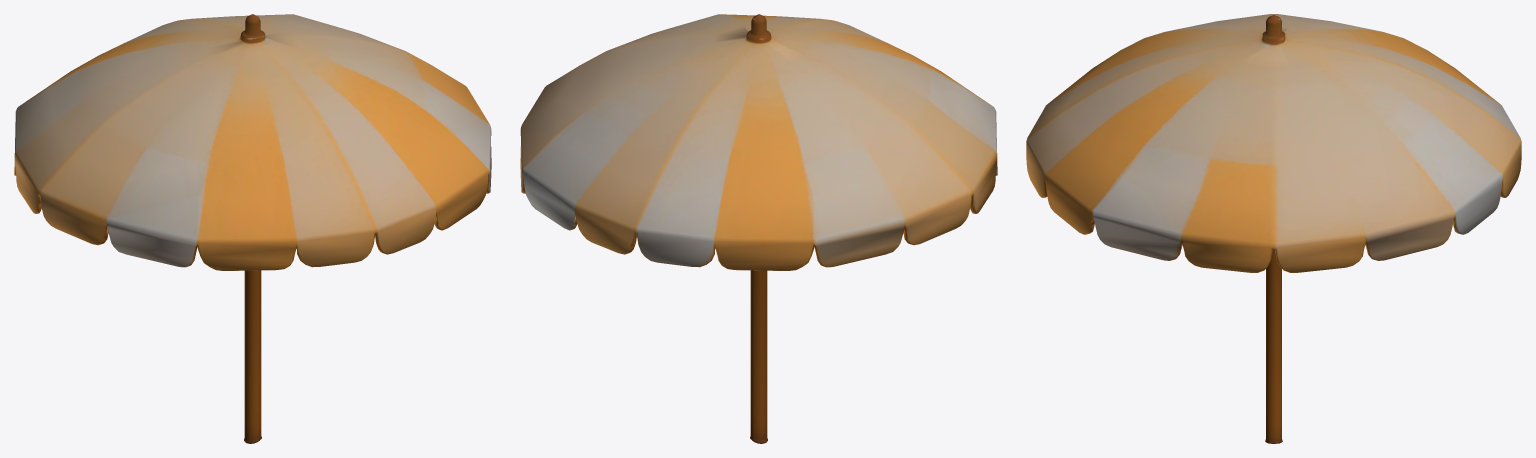
File: a_beach_umbrella_e6d4f903_v1.glb
3 views of the same model, side by side, from view 1: azimuth 30°, elevation 25°; view 2: azimuth 150°, elevation 25°; view 3: azimuth 270°, elevation 25° (orthographic).
Visible parts, largest first — view 1: material; view 2: material; view 3: material.
Boxes of the visible parts, x1,y1,x2,y2 form: material: (14,14,491,443); material: (520,14,997,443); material: (1026,14,1521,443).
Bounding box in the file's own units: 1.9 × 1.81 × 1.9.
Materials: 1 (1 with a texture image).
